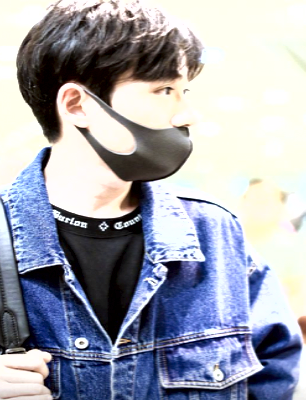mask_weared_incorrect: (94, 72, 198, 182)
